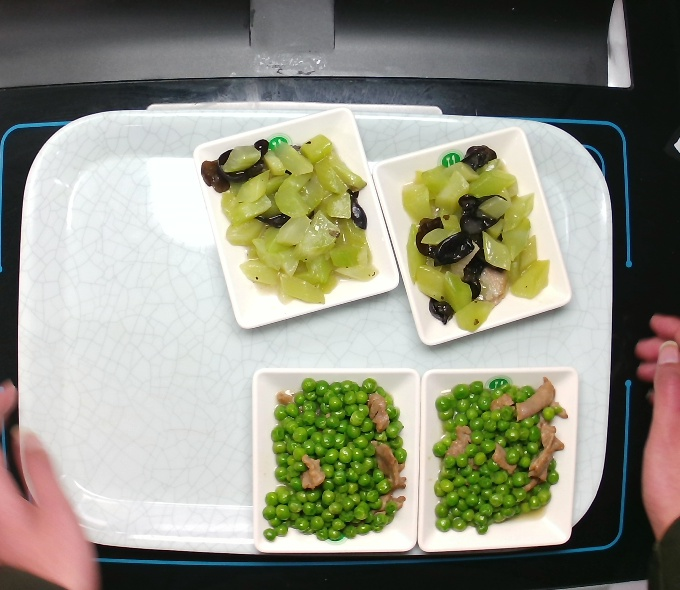wcq-CanDouRouSi: (254, 369, 417, 555), (419, 371, 573, 545)
wcq-WoSunKuai: (195, 132, 375, 316), (398, 136, 558, 337)
